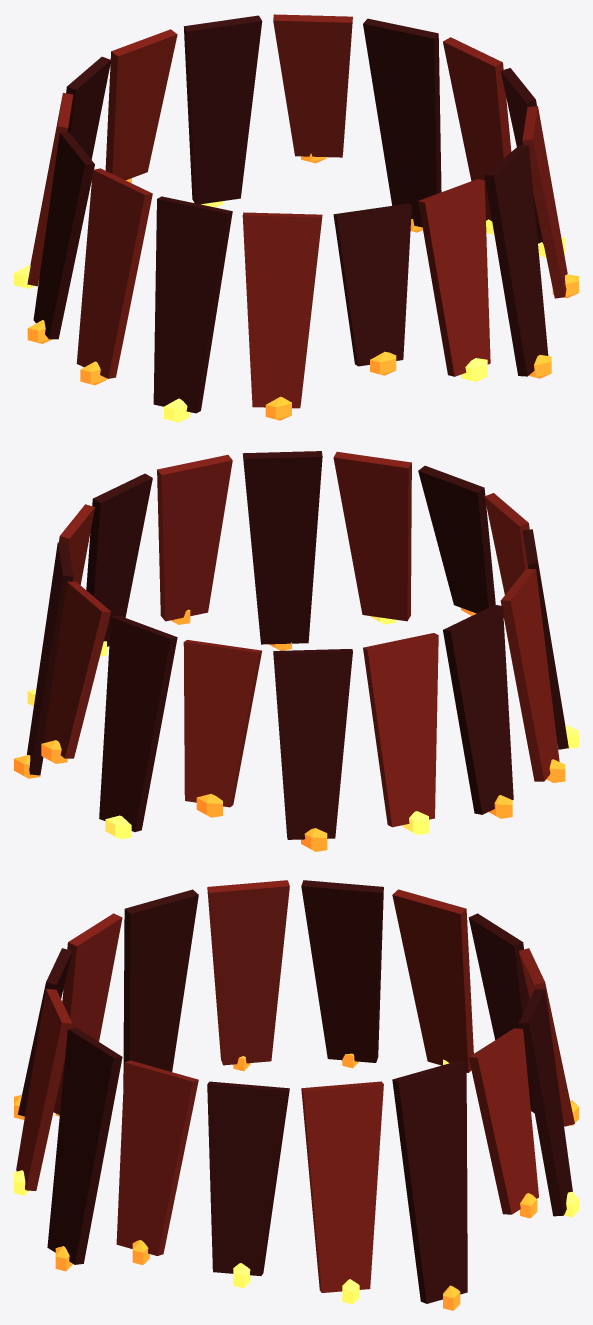
File: fallen_priest_rags.glb
3 views of the same model, one above another, from view 1: azimuth 30°, elevation 25°; view 2: azimuth 150°, elevation 25°; view 3: azimuth 270°, elevation 25° (orthographic). The views are drawn at different scales.
Parts seen in each view (by area): view 1: fallen_priest_rags; view 2: fallen_priest_rags; view 3: fallen_priest_rags.
Part boxes in pixels (x1=…): fallen_priest_rags: x1=14, y1=14, x2=578, y2=422; fallen_priest_rags: x1=14, y1=451, x2=578, y2=851; fallen_priest_rags: x1=14, y1=880, x2=578, y2=1310.
Size of the model in its own units: 1.06 by 0.457 by 1.03.
